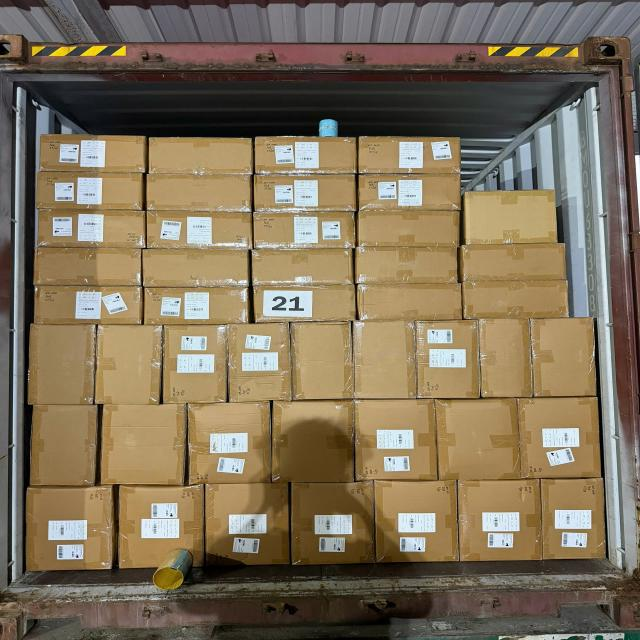Carton: (25, 487, 117, 575), (116, 488, 204, 574), (292, 480, 377, 565), (204, 481, 288, 567), (374, 483, 460, 567), (458, 478, 542, 564), (100, 405, 188, 487), (187, 400, 270, 484), (519, 396, 602, 479), (438, 397, 520, 480), (357, 397, 438, 480), (276, 399, 356, 482), (28, 322, 96, 406), (542, 477, 607, 563), (31, 407, 98, 490), (98, 326, 164, 407), (532, 316, 596, 398), (464, 190, 559, 245), (226, 324, 290, 404), (416, 321, 479, 402), (351, 321, 413, 403), (167, 326, 230, 404), (293, 322, 354, 401), (144, 286, 250, 328), (35, 249, 144, 289), (358, 134, 461, 176), (32, 285, 142, 324), (462, 281, 568, 321), (479, 317, 531, 398), (36, 174, 144, 213), (38, 134, 146, 173), (36, 210, 145, 248), (145, 250, 251, 289), (358, 282, 464, 321), (252, 251, 357, 290), (254, 134, 356, 174), (149, 176, 253, 215), (252, 211, 356, 250), (152, 136, 253, 176), (148, 211, 254, 249), (254, 176, 359, 214), (252, 286, 356, 324), (355, 176, 456, 215), (460, 245, 565, 282), (354, 250, 456, 288), (358, 212, 459, 247)
